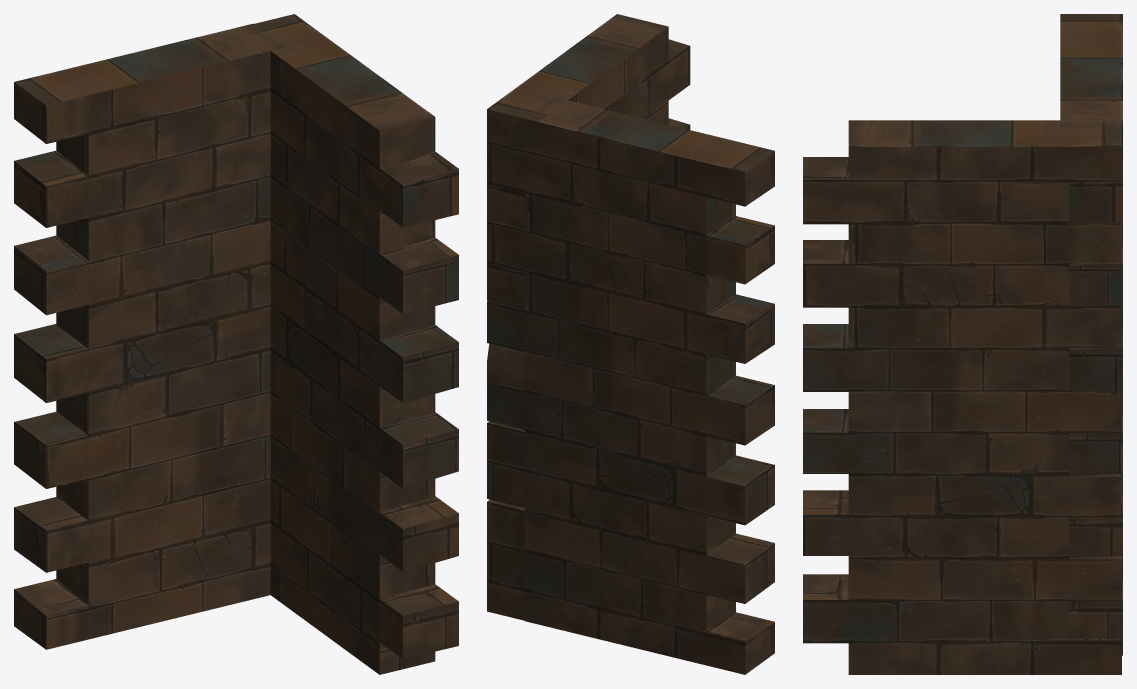
The model's file is WallCorner.fbx.
The picture shows the model from 3 angles, left to right: view 1: azimuth 30°, elevation 25°; view 2: azimuth 150°, elevation 25°; view 3: azimuth 270°, elevation 25°; orthographic projection. The views are drawn at different scales.
Parts seen in each view (by area): view 1: ściana.001; view 2: ściana.001; view 3: ściana.001.
Boxes of the visible parts, x1,y1,x2,y2 form: ściana.001: (14,14,458,674); ściana.001: (487,14,774,674); ściana.001: (803,14,1122,674).
Size of the model in its own units: 202 by 375 by 206.
